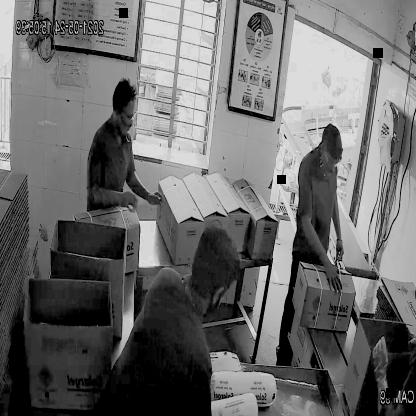goggles: (321, 150, 342, 172)
